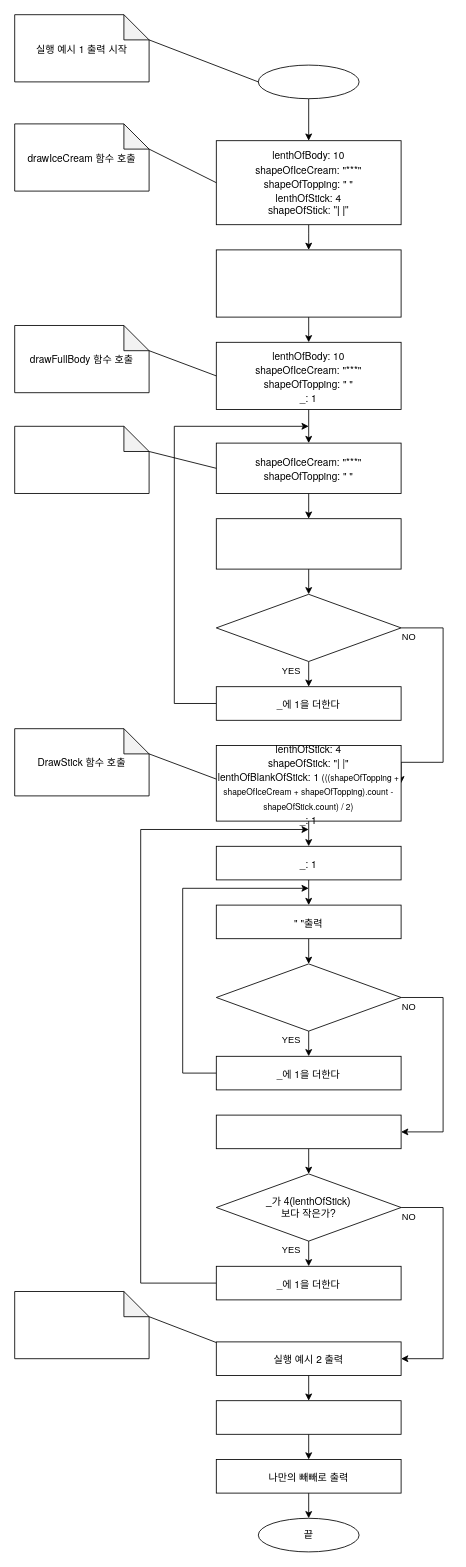
This 466x1567 diagram has some shape labels left out. Each missing label, with the centre of its shape:
_가 1( lenthOfBlankOfStick ) 보다 작은가?: the point at 308,997
_가 10(lenthOfBody)보다 작은가?: the point at 308,627
drawBody 함수 호출: the point at 81,459
lenthOfBlankOfStick 상수에 비율을 이용해 Stick 공백값 계산 후 할당: the point at 308,283
shapeOfStick 출력: the point at 308,1131
shapeOfTopping + shapeOfIceCream + shapeOfTopping + 줄바꿈 출력: the point at 308,543
시작: the point at 308,81
실행 예시 1 출력 끝: the point at 81,1325
실행 예시 3 출력: the point at 308,1417
